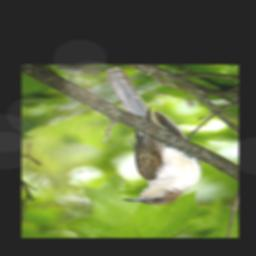Cuckoo: (105, 68, 204, 206)
